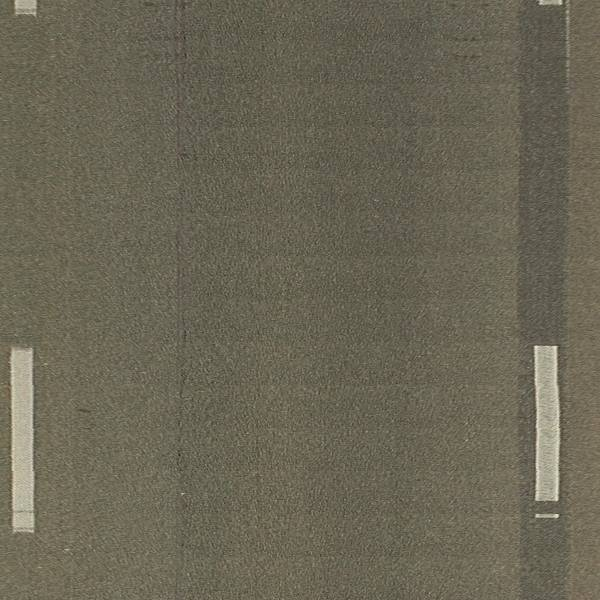road_damage: (159, 2, 194, 599)
